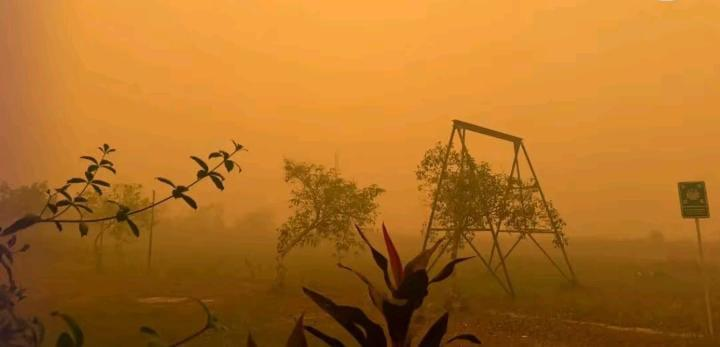Deteksi-Objek-Citra-Berasap: (0, 0, 719, 346)
Vegetasi: (0, 138, 247, 346), (281, 216, 483, 346), (414, 141, 570, 279), (275, 155, 386, 294)
